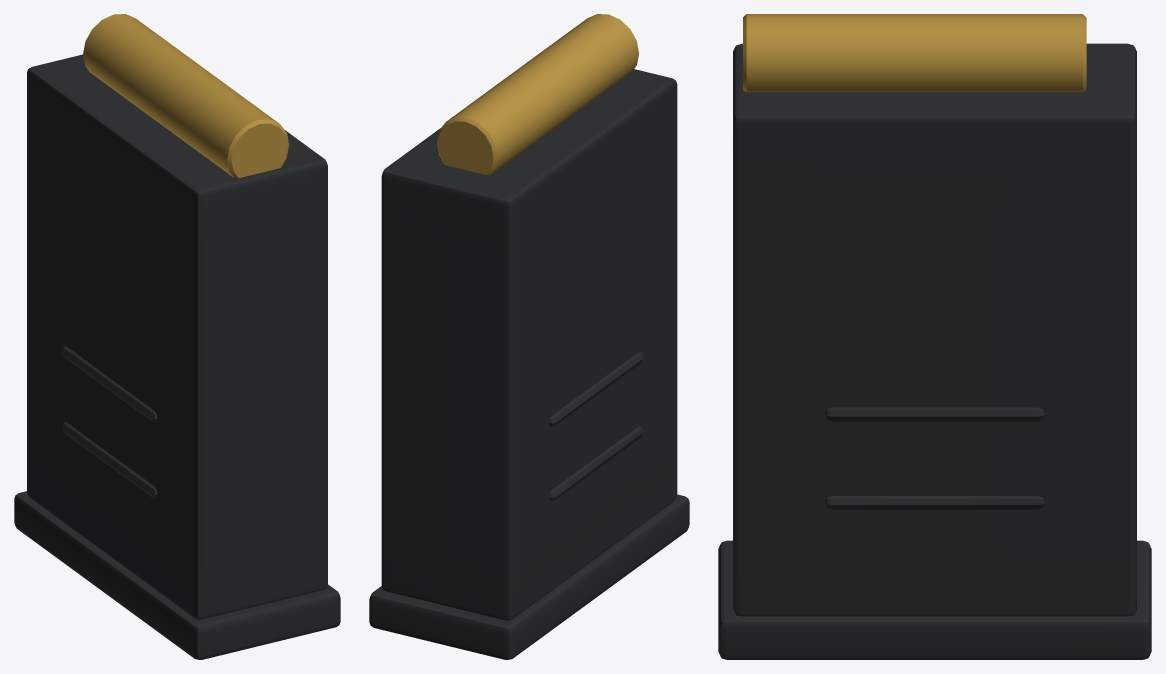
File: mod_heron_extended_mag.glb
The picture shows the model from 3 angles, left to right: view 1: azimuth 30°, elevation 25°; view 2: azimuth 150°, elevation 25°; view 3: azimuth 270°, elevation 25°; orthographic projection. The views are drawn at different scales.
Visible parts, largest first — view 1: Magazine, MagazineRound; view 2: Magazine, MagazineRound; view 3: Magazine, MagazineRound.
Boxes of the visible parts, <box> form: Magazine: <box>14,54,340,659</box>; MagazineRound: <box>83,14,289,178</box>; Magazine: <box>369,69,689,659</box>; MagazineRound: <box>437,14,638,174</box>; Magazine: <box>718,43,1151,659</box>; MagazineRound: <box>743,14,1086,92</box>.
Size of the model in its own units: 0.0274 by 0.0923 by 0.06.
